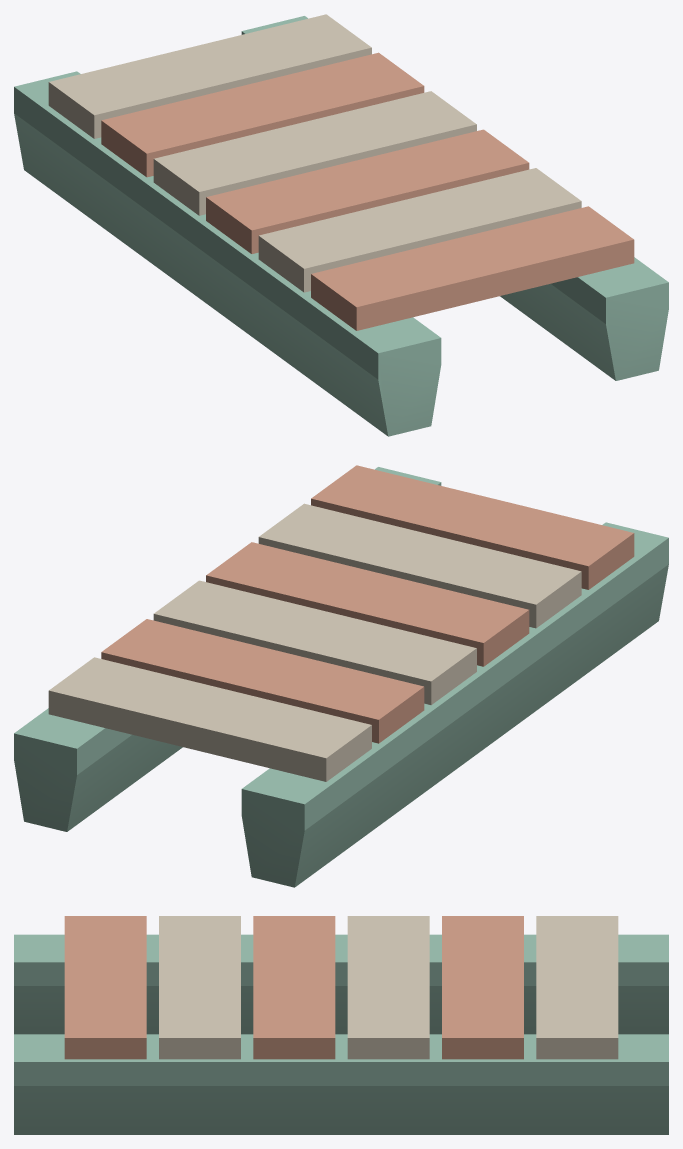
File: road-plank.glb
3 views of the same model, one above another, from view 1: azimuth 30°, elevation 25°; view 2: azimuth 150°, elevation 25°; view 3: azimuth 270°, elevation 25° (orthographic). The views are drawn at different scales.
Visible parts, largest first — view 1: root_mesh; view 2: root_mesh; view 3: root_mesh.
Part boxes in pixels (x1=…): root_mesh: x1=14, y1=14, x2=668, y2=436; root_mesh: x1=14, y1=465, x2=668, y2=887; root_mesh: x1=14, y1=916, x2=668, y2=1134.
Bounding box in the file's own units: 1.01 × 0.3652 × 2.2.
